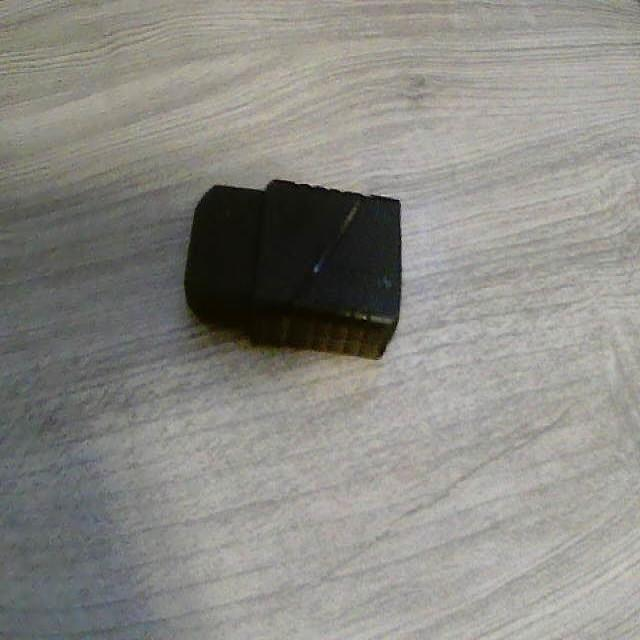borracha: (171, 137, 450, 382)
